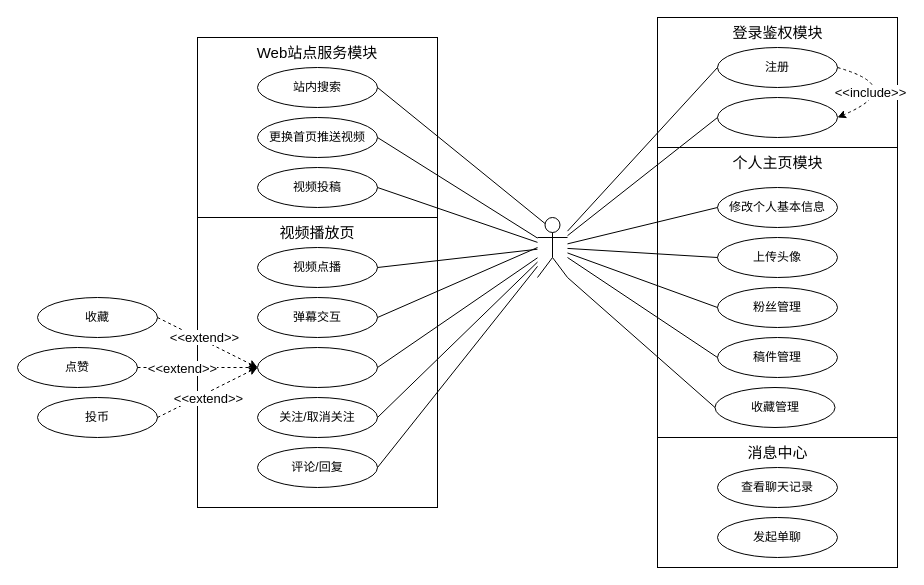
Some shapes in this 924 by 585 pixel diagram are drawn without their labels. Here are the shapes that lost their labels. From the top down, the centre of each, then its label:
At point (777, 117): "登录".
At point (552, 247): "普通用户".
At point (317, 367): "视频交互".
